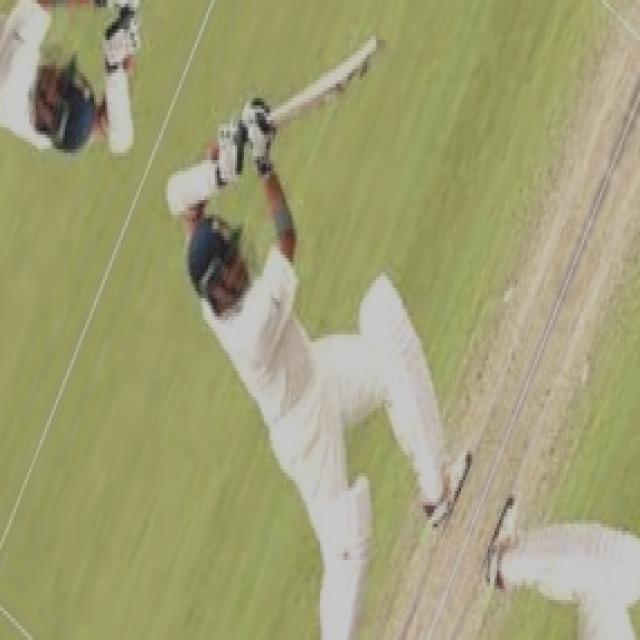toe: (344, 36, 384, 86)
